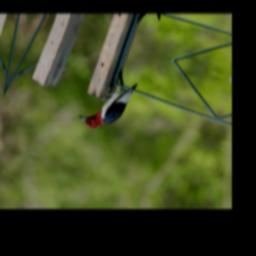Woodpecker: (75, 69, 138, 138)
